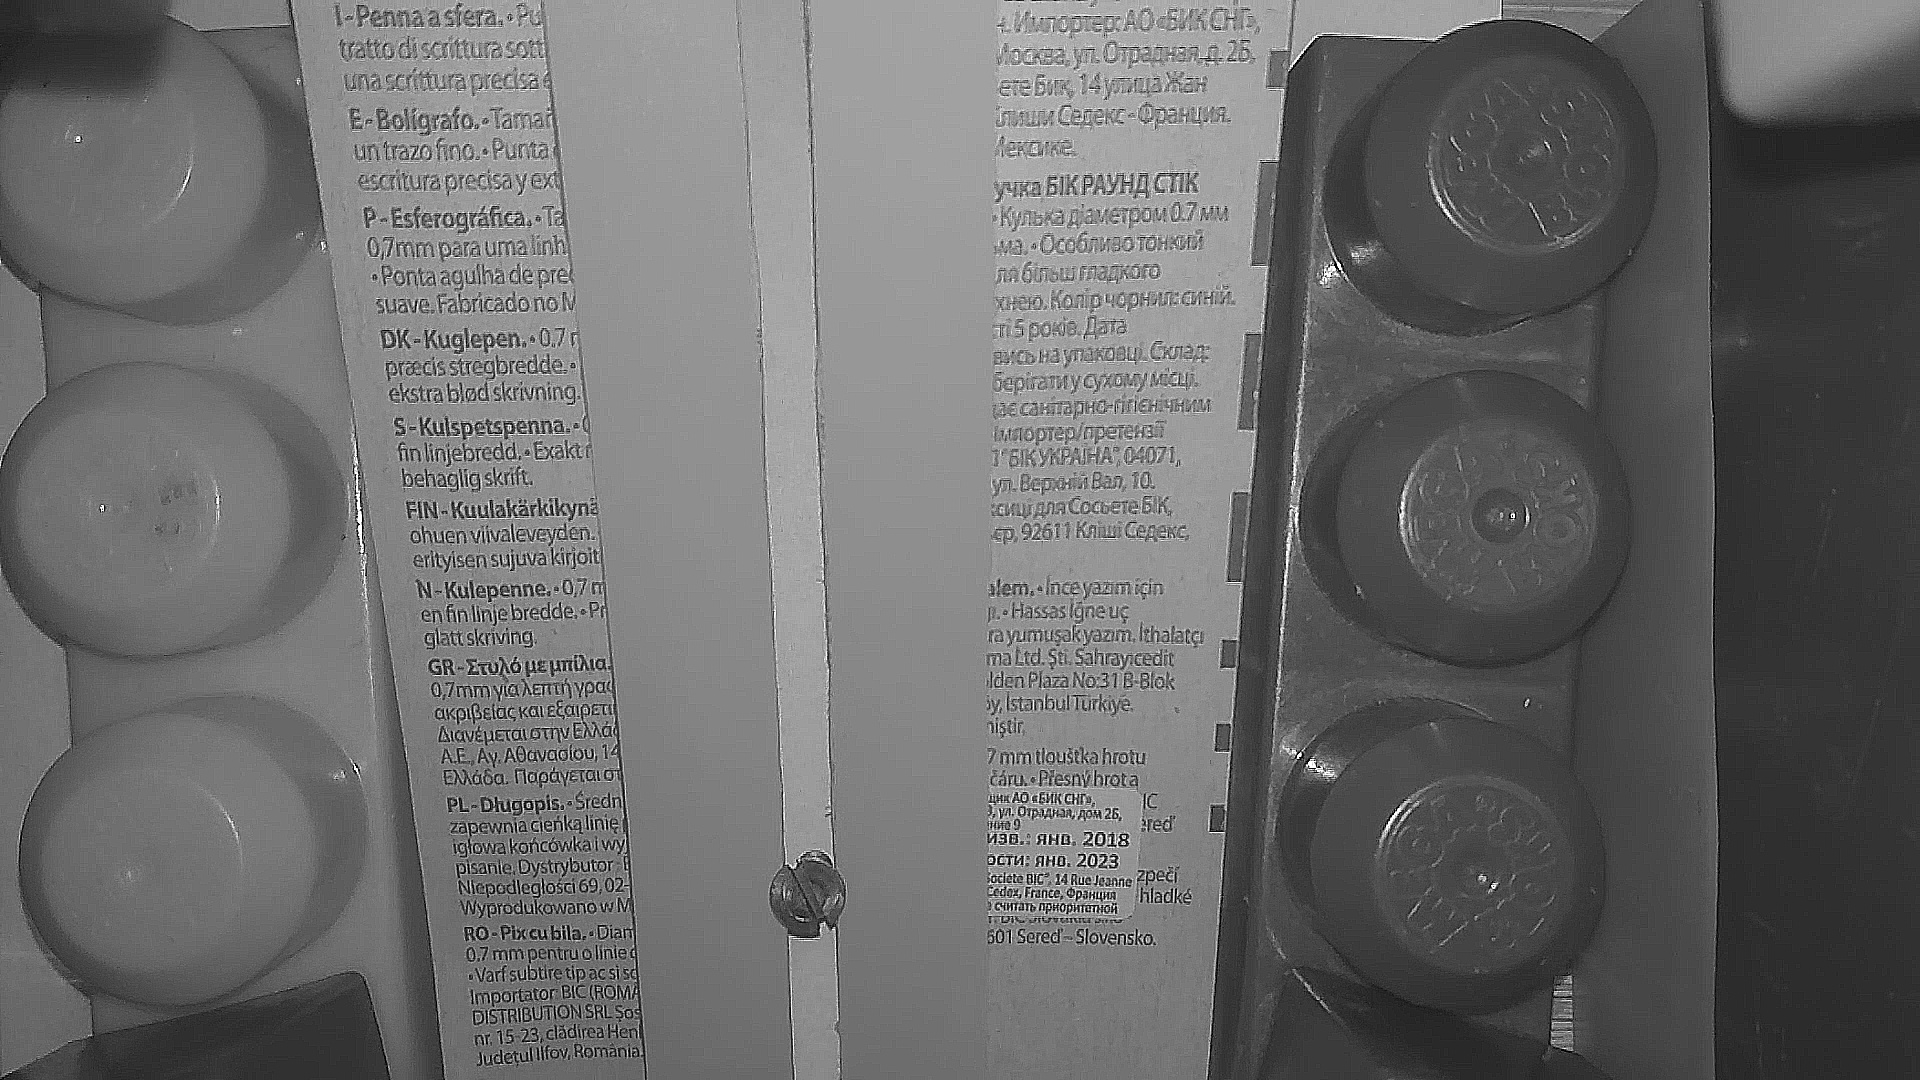i: (771, 858, 845, 938)
